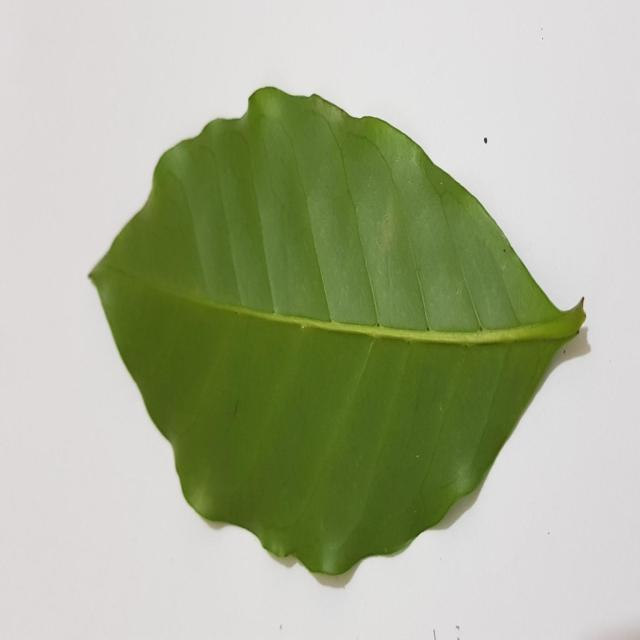Sanas: (87, 86, 591, 591)
